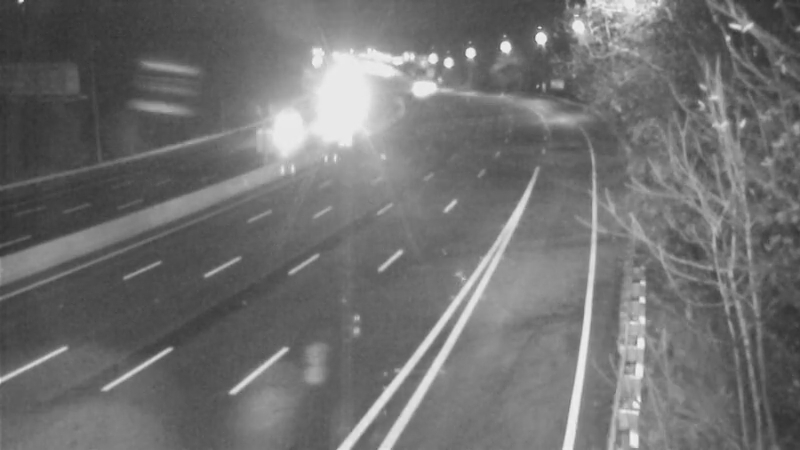vehicle: (393, 60, 443, 110), (251, 97, 301, 147)
